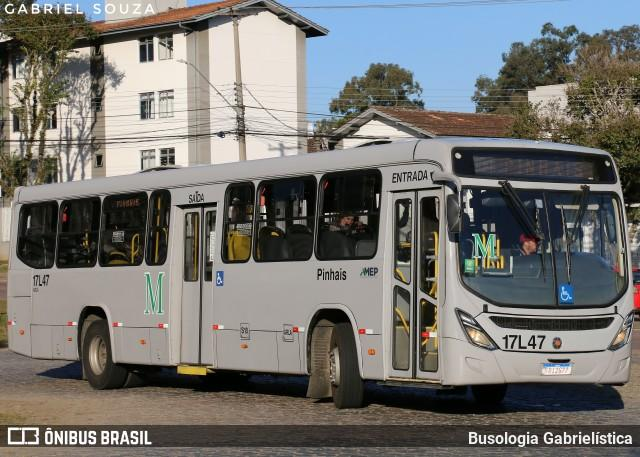PINHAIS: (499, 152, 596, 183)
